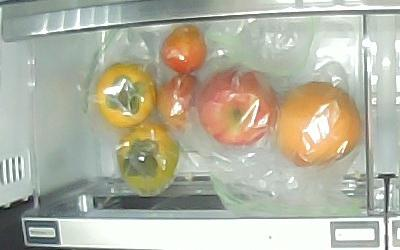apple_vinyl: (197, 67, 278, 147)
grapefruit_vinyl: (276, 81, 363, 169)
persimmon_vinyl: (118, 124, 179, 196), (97, 62, 156, 128)
prune_vinyl: (155, 75, 201, 131), (160, 25, 207, 76)
